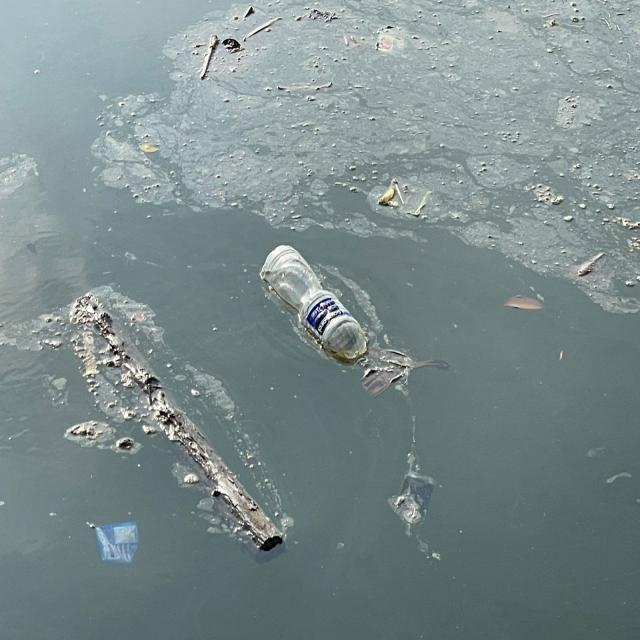Botol Plastik: (255, 241, 378, 374)
Bungkus Minuman: (92, 522, 143, 567)
